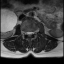CCS_normal: (28, 29, 30, 38)
LFS_normal: (32, 28, 34, 36)
LLS_normal: (30, 29, 32, 37)
RFS_normal: (24, 29, 26, 36)
RLS_normal: (26, 29, 28, 37)
